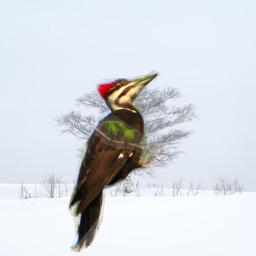Woodpecker: (67, 70, 164, 253)
